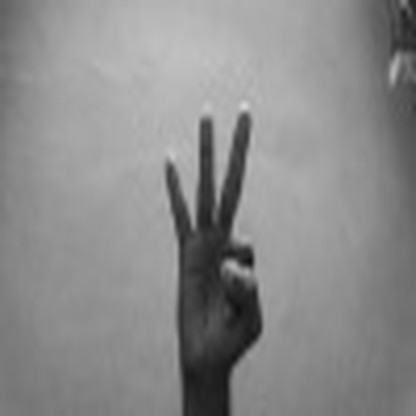f: (137, 95, 287, 379)
